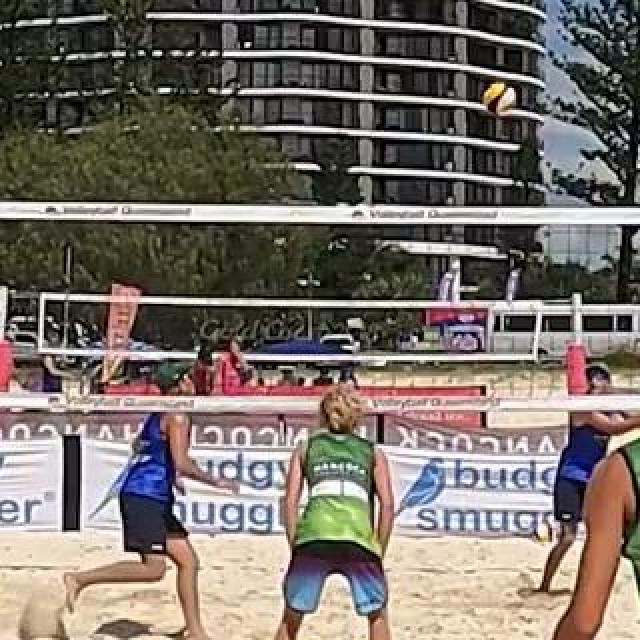volleyball: (482, 82, 514, 114), (532, 522, 554, 544)
